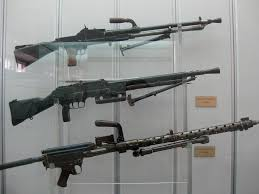gun: (0, 117, 258, 187), (6, 66, 222, 126), (12, 15, 224, 69)
